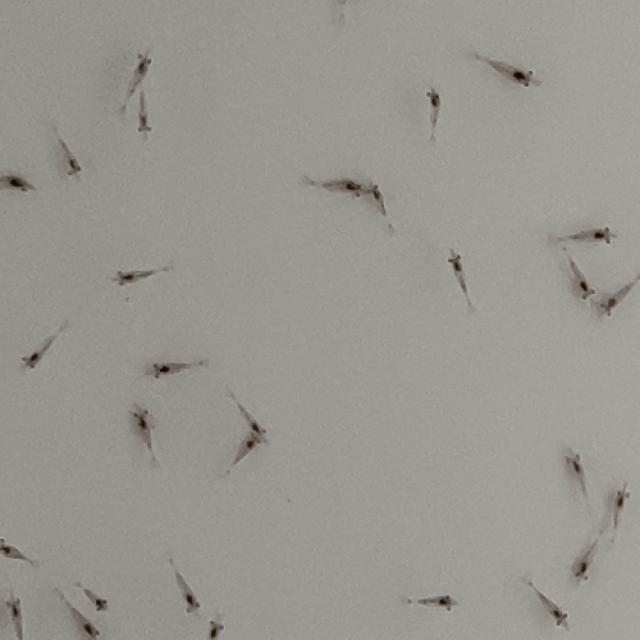shrimp-seed: (512, 65, 535, 91), (20, 350, 42, 372), (564, 452, 584, 476), (437, 592, 461, 612), (592, 224, 612, 248), (134, 53, 154, 77), (612, 488, 632, 510), (112, 270, 134, 290), (183, 593, 202, 615), (447, 252, 466, 274), (135, 114, 154, 136), (130, 408, 150, 428), (8, 175, 30, 193), (600, 295, 618, 317), (367, 182, 385, 204), (424, 86, 442, 108), (5, 600, 24, 620), (244, 434, 264, 452), (344, 178, 362, 198), (574, 561, 590, 583), (0, 540, 16, 562), (151, 363, 169, 381), (578, 282, 596, 300), (208, 621, 225, 640), (84, 623, 102, 640), (250, 422, 268, 439), (66, 158, 83, 176), (554, 607, 568, 628), (95, 598, 109, 612)
